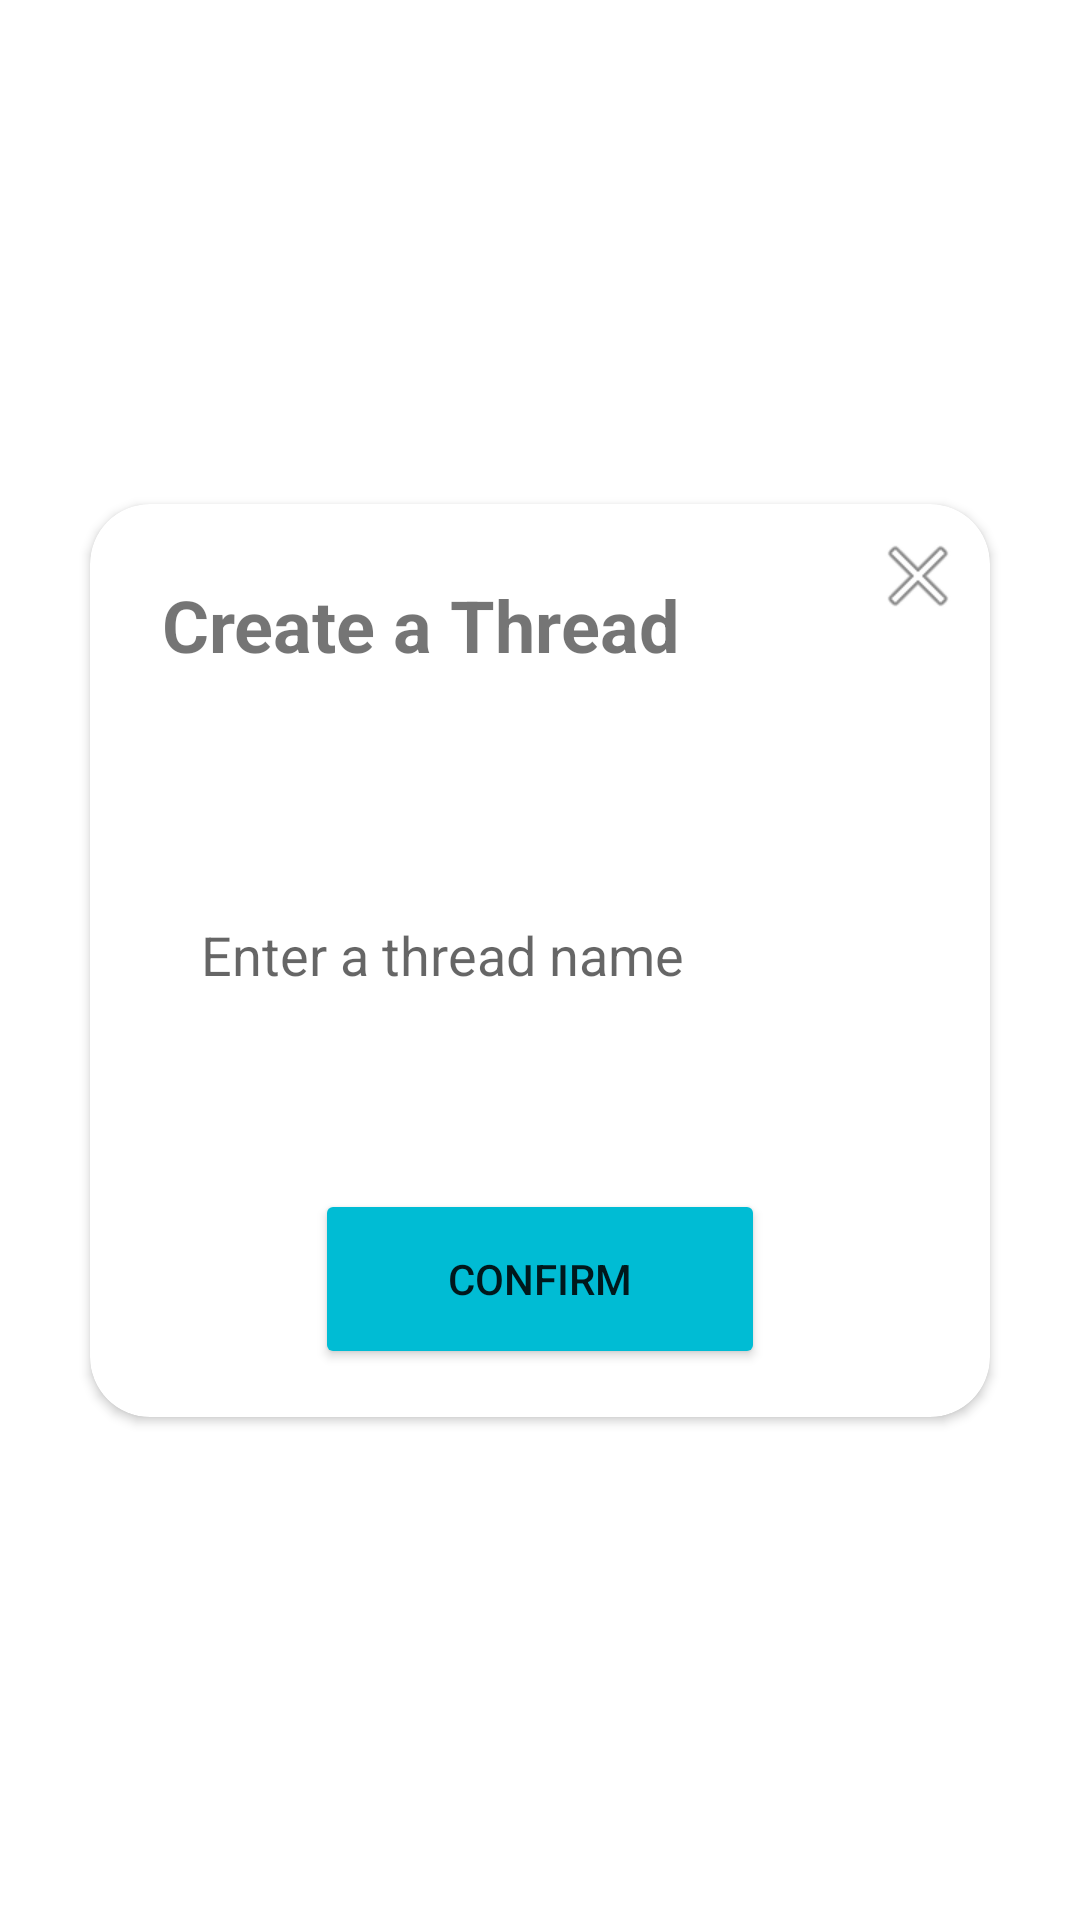

Point at icon controls on the screen. Image size 1080*1920, points as (x=x, y=y).
close clear cancel: (x=918, y=576)
